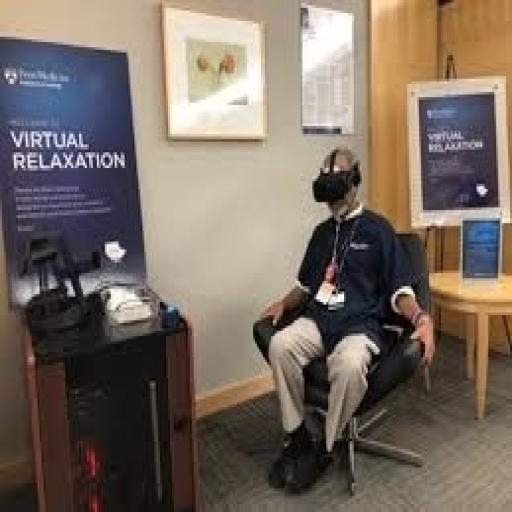sitting: (249, 142, 437, 491)
